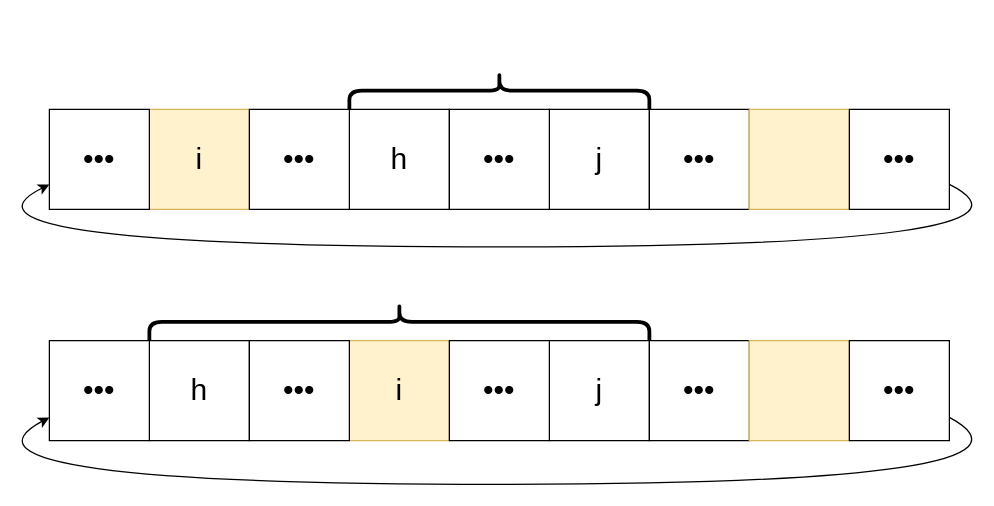
This 994x506 diagram has some shape labels left out. Each missing label, with the box of its shape:
Empty Spot: i: (147, 301, 651, 342)
No Empty Spot: (347, 69, 651, 111)
